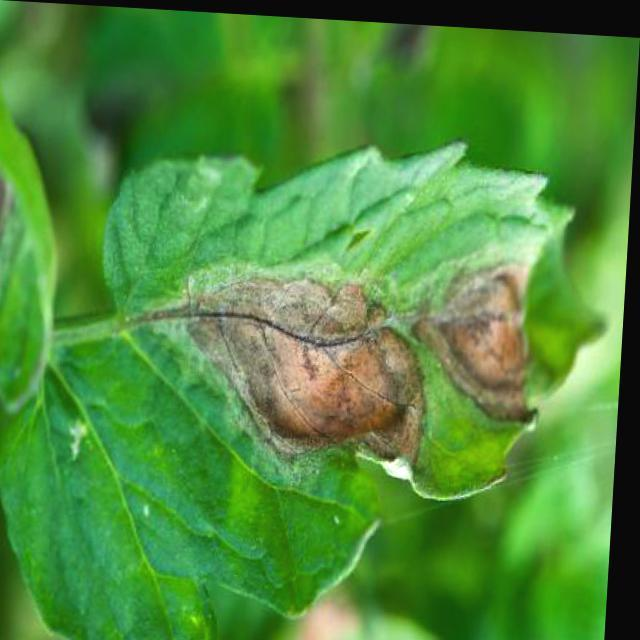Tomato mosaic virus leaf: (9, 97, 609, 639)
